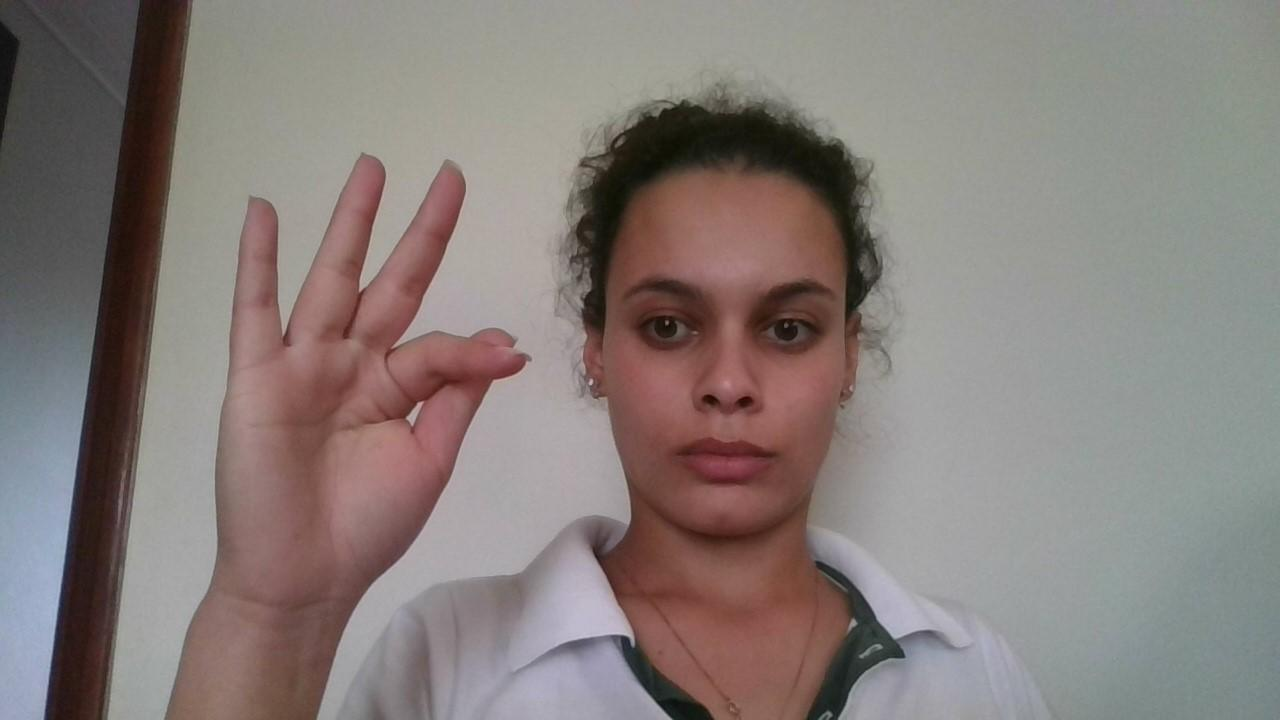F: (218, 146, 540, 596)
